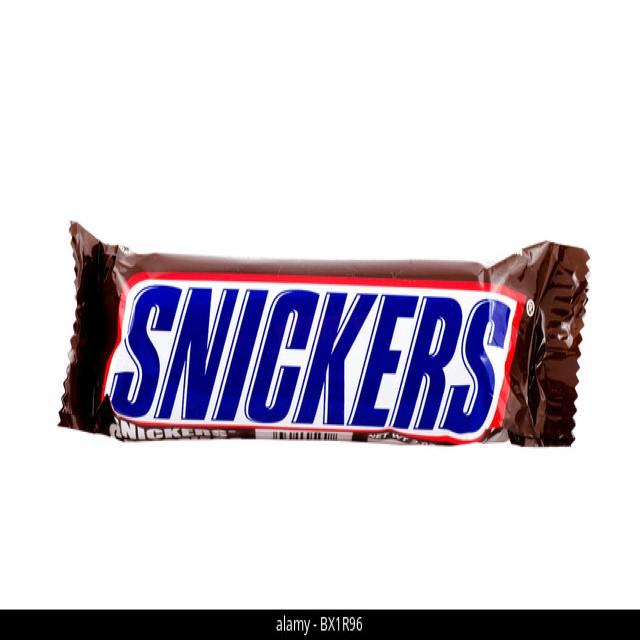snickers_chocolate: (69, 225, 584, 470)
